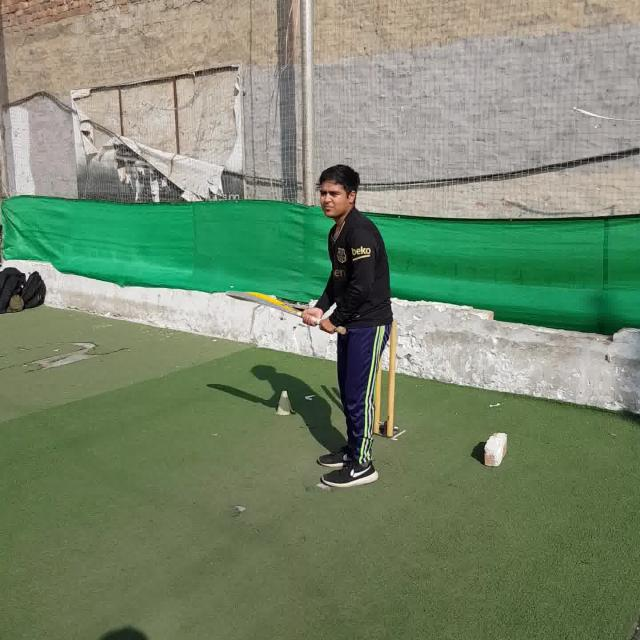bat: (225, 290, 345, 335)
